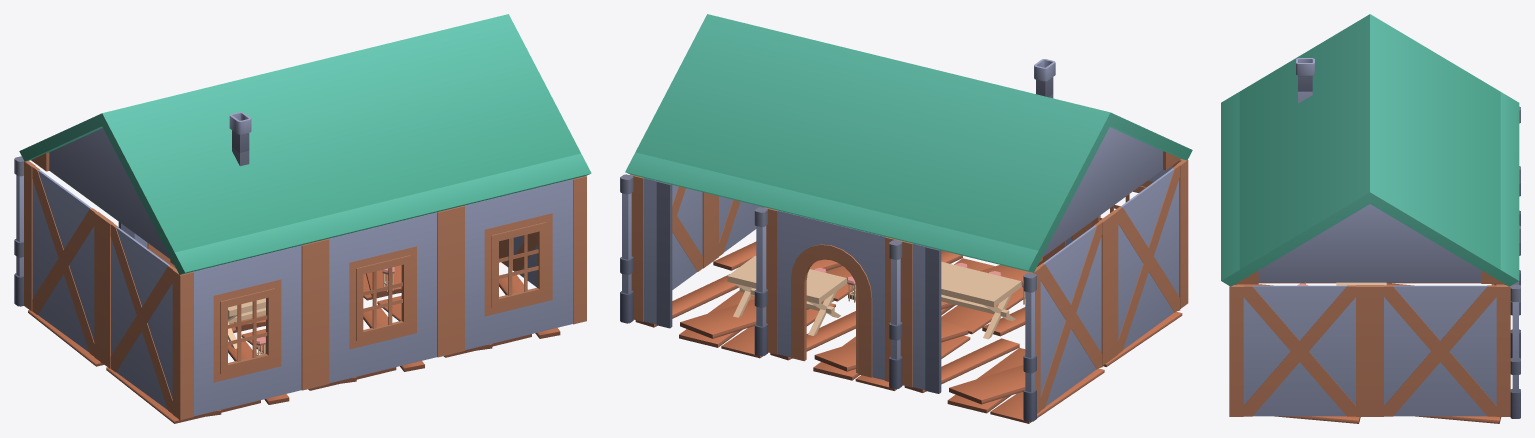
Rendered from london_guild_2.glb.
The picture shows the model from 3 angles, left to right: view 1: azimuth 30°, elevation 25°; view 2: azimuth 150°, elevation 25°; view 3: azimuth 270°, elevation 25°; orthographic projection. The views are drawn at different scales.
Parts seen in each view (by area): view 1: roof-gable (×3), wall-window-shutters (×3), wall-detail-cross (×3), platform-planks (×5), pillar-stone, chimney-top, tableCross(Clone); view 2: roof-gable (×3), wall-detail-cross (×4), platform-planks (×6), wall-door, wall-arch (×2), pillar-stone (×4), tableCross(Clone) (×2), wall-window-shutters, chimney-top; view 3: roof-gable (×3), wall-detail-cross (×2), pillar-stone, platform-planks (×2), wall-window-shutters, wall-arch, chimney-top.
Part boxes in pixels (<box>): roof-gable (×3): <box>19,14,591,274</box>; wall-window-shutters (×3): <box>178,176,586,420</box>; wall-detail-cross (×3): <box>24,160,586,419</box>; platform-planks (×5): <box>28,265,560,423</box>; pillar-stone: <box>14,156,23,306</box>; chimney-top: <box>229,112,251,152</box>; tableCross(Clone): <box>228,298,265,348</box>; roof-gable (×3): <box>625,14,1192,272</box>; wall-detail-cross (×4): <box>631,160,1188,413</box>; platform-planks (×6): <box>635,241,1182,423</box>; wall-door: <box>764,207,898,381</box>; wall-arch (×2): <box>630,174,941,393</box>; pillar-stone (×4): <box>620,174,1036,421</box>; tableCross(Clone) (×2): <box>727,255,1021,339</box>; wall-window-shutters: <box>1051,159,1188,302</box>; chimney-top: <box>1034,59,1055,97</box>; roof-gable (×3): <box>1221,14,1519,286</box>; wall-detail-cross (×2): <box>1229,285,1510,416</box>; pillar-stone: <box>1510,284,1520,418</box>; platform-planks (×2): <box>1275,416,1501,423</box>; wall-window-shutters: <box>1229,284,1236,416</box>; wall-arch: <box>1506,286,1510,416</box>; chimney-top: <box>1296,58,1314,91</box>.
Size of the model in its own units: 15.37 by 9.09 by 10.66.
12 materials, 9 textured.
